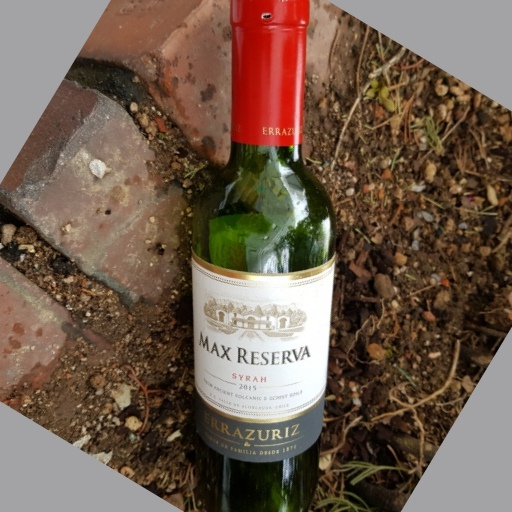Glass_2: (189, 1, 340, 512)
